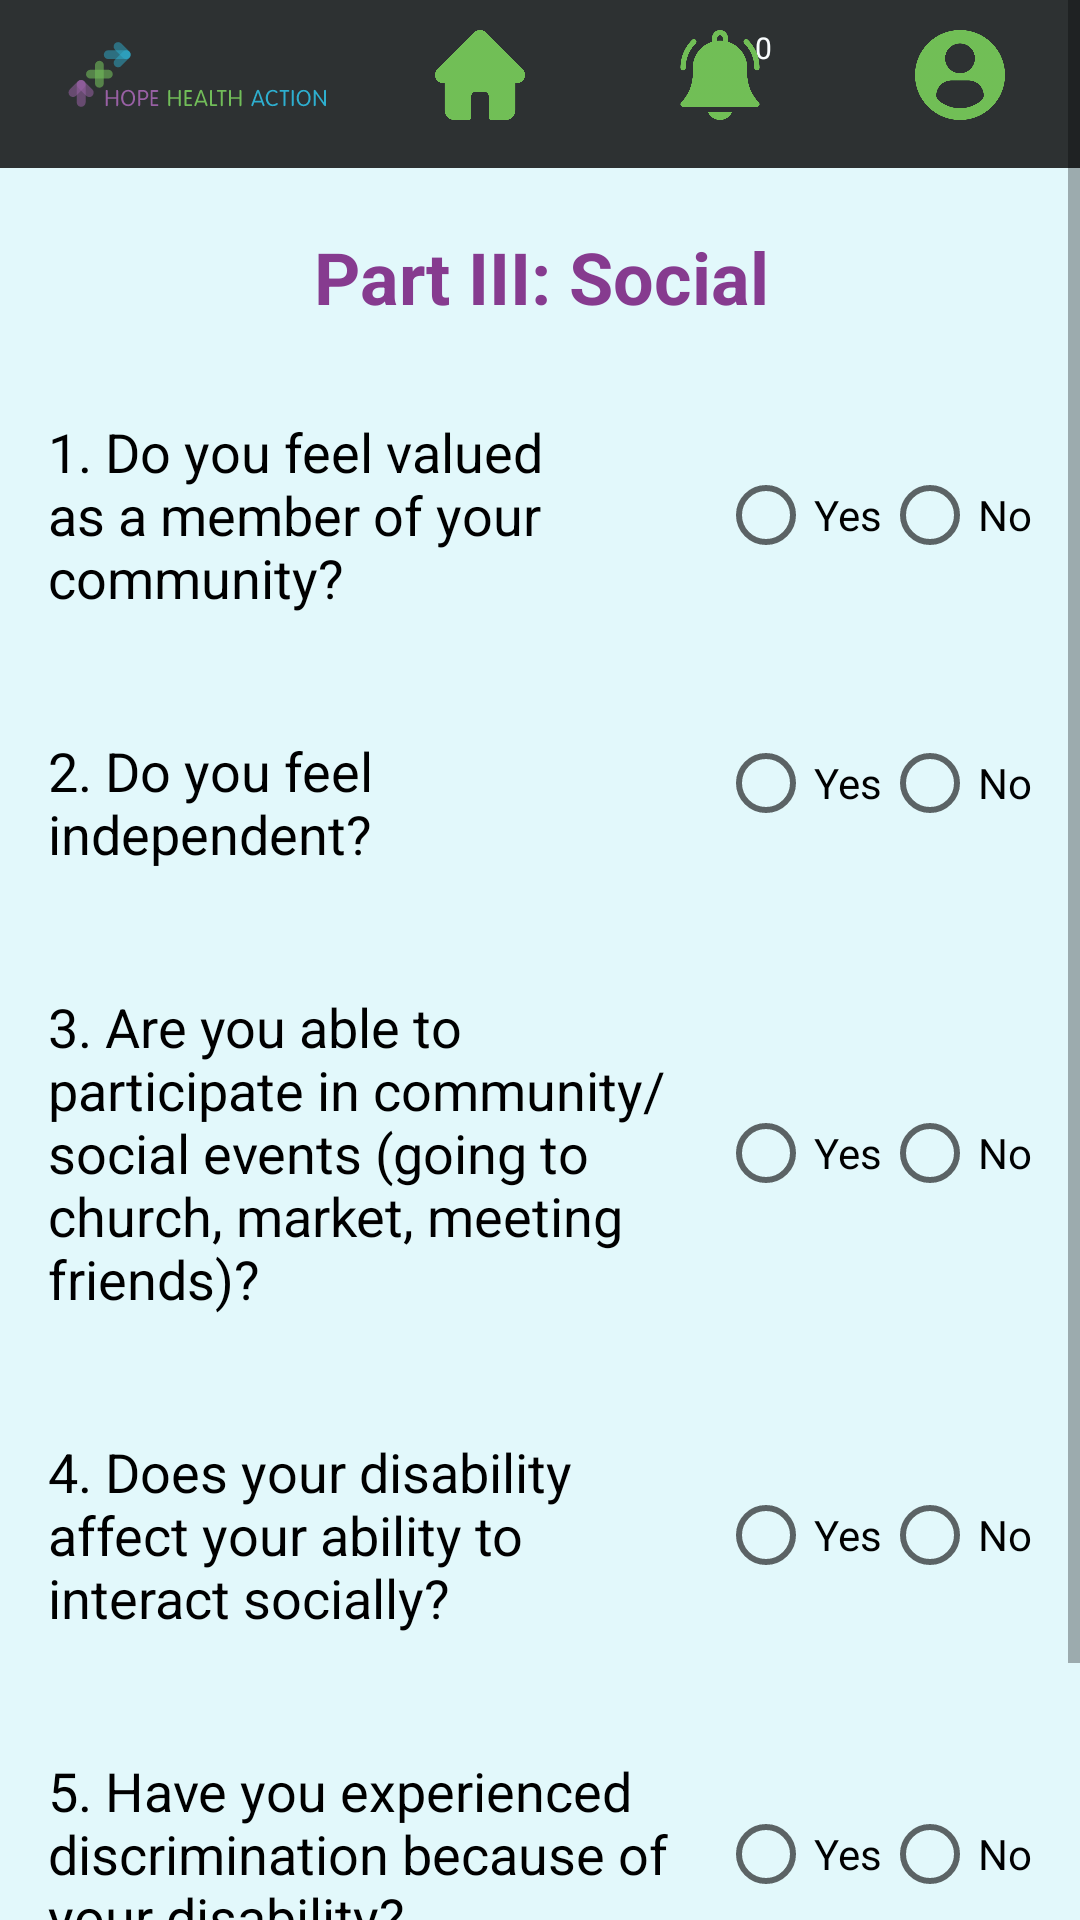

Where to tap for icons on this 1080px×1920px app screen, as [x,y]:
bell: [725,75]
home: [480,75]
profile taskbar: [960,75]
